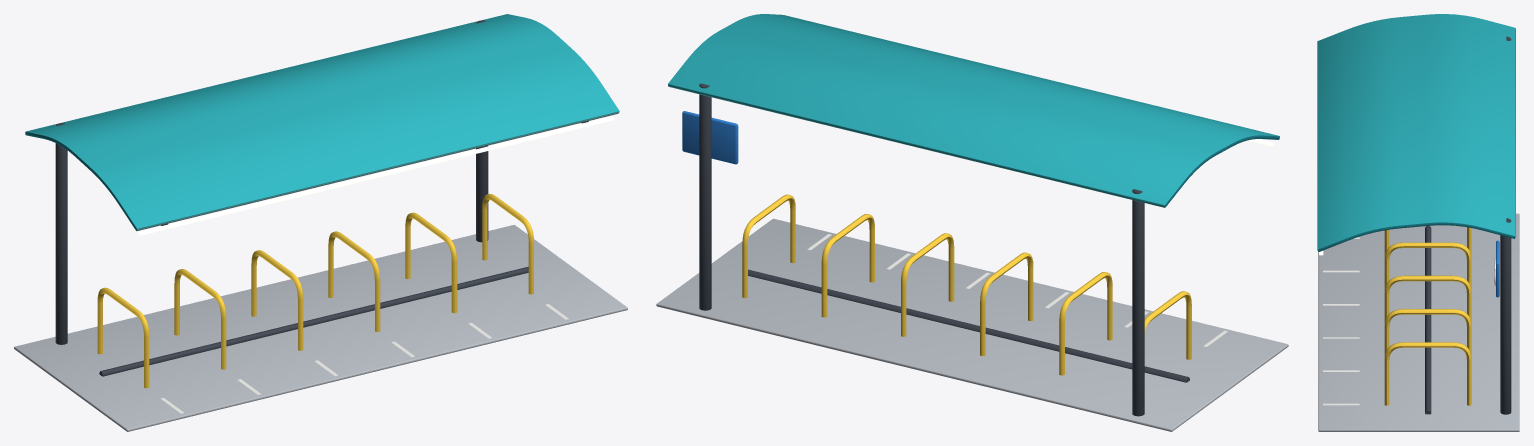
Rendered from bicicletario_clube.glb.
3 views of the same model, side by side, from view 1: azimuth 30°, elevation 25°; view 2: azimuth 150°, elevation 25°; view 3: azimuth 270°, elevation 25° (orthographic). The views are drawn at different scales.
Visible parts, largest first — view 1: bicicletario_clube; view 2: bicicletario_clube; view 3: bicicletario_clube.
Part boxes in pixels (box(x1,y1,x2,y2)): bicicletario_clube: box(14, 14, 627, 431); bicicletario_clube: box(656, 14, 1288, 431); bicicletario_clube: box(1317, 14, 1519, 431).
Size of the model in its own units: 5.6 by 2.49 by 2.21.
Materials: 2 (1 with a texture image).
